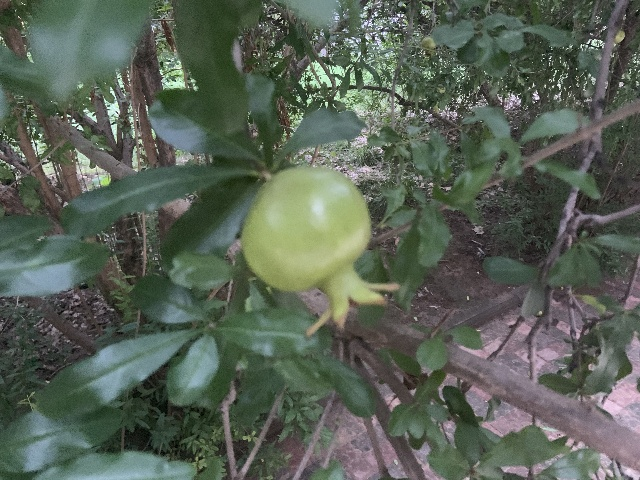mid-growth: (241, 166, 399, 336), (421, 36, 436, 56)
